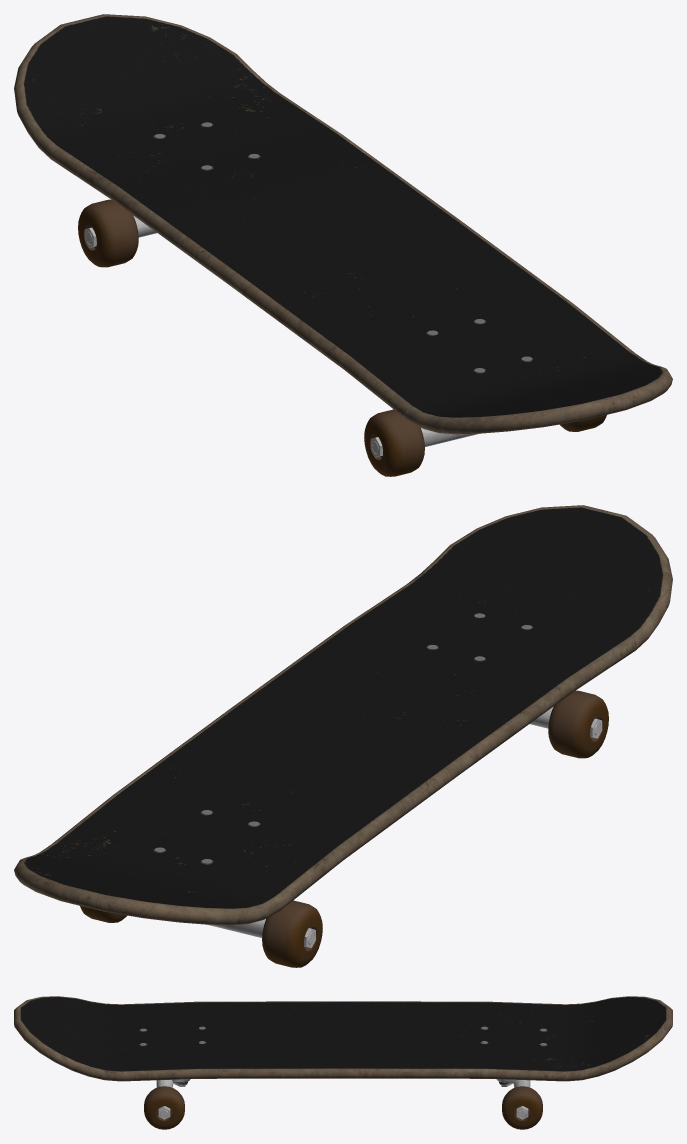
Rendered from skateboard_classic.glb.
3 renders of one model, top to bottom at view 1: azimuth 30°, elevation 25°; view 2: azimuth 150°, elevation 25°; view 3: azimuth 270°, elevation 25°, orthographic. The views are drawn at different scales.
Parts seen in each view (by area): view 1: Board_Scateboard_MAT_0; view 2: Board_Scateboard_MAT_0; view 3: Board_Scateboard_MAT_0.
Boxes of the visible parts, x1,y1,x2,y2 form: Board_Scateboard_MAT_0: (14, 14, 672, 476); Board_Scateboard_MAT_0: (14, 505, 672, 967); Board_Scateboard_MAT_0: (14, 996, 672, 1129).
Size of the model in its own units: 0.2175 by 0.121 by 0.85.
Materials: 1 (1 with a texture image).
